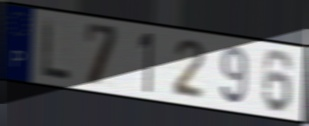1: (138, 31, 154, 96)
2: (172, 37, 206, 100)
6: (261, 47, 293, 115)
7: (83, 20, 121, 89)
9: (219, 45, 248, 106)
L: (41, 16, 72, 83)
